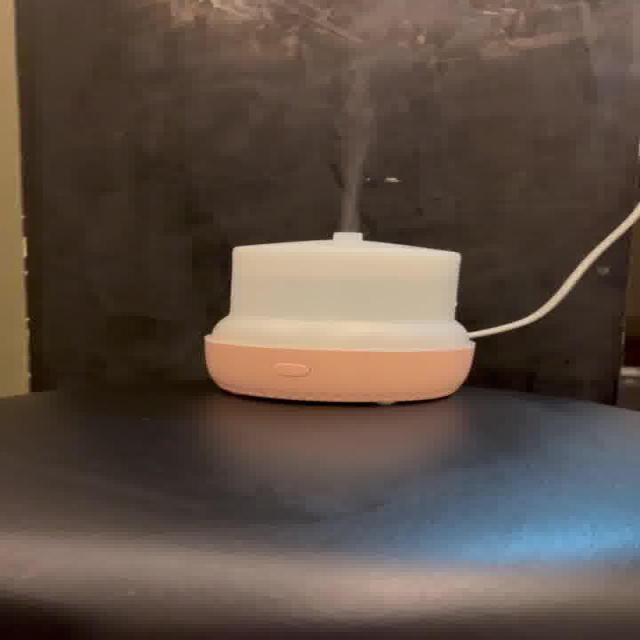fire: (319, 59, 386, 228)
